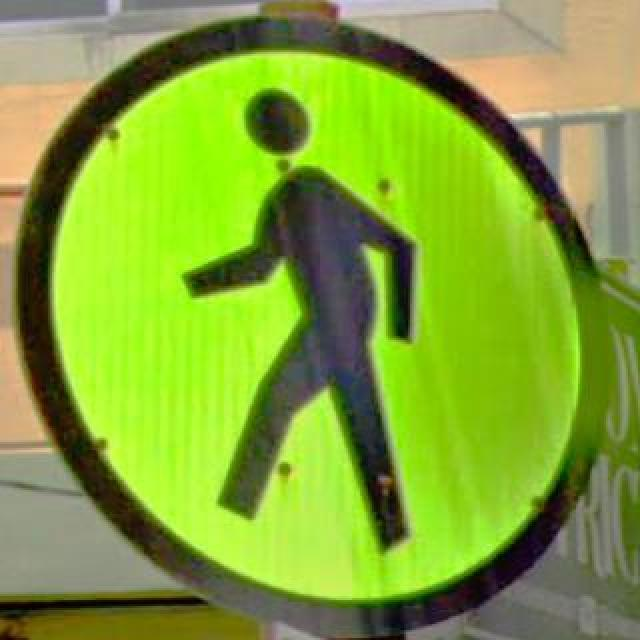pedestrian crossing: (14, 10, 612, 640)
